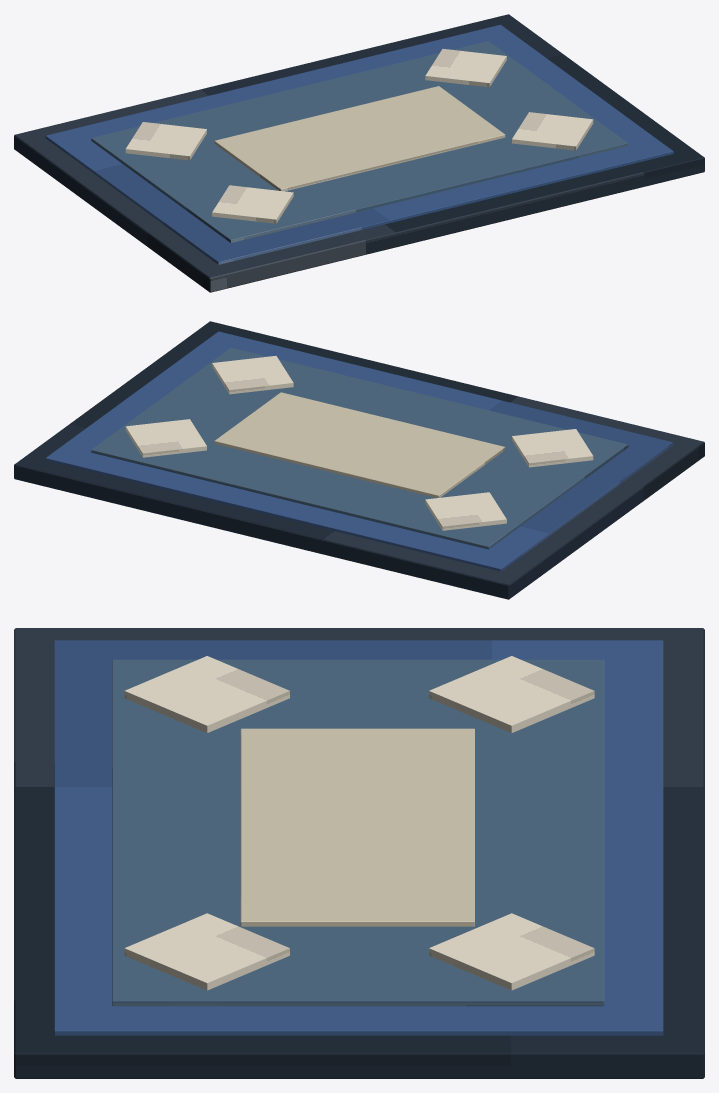
Rendered from bedroom_rug_navy.glb.
3 views of the same model, one above another, from view 1: azimuth 30°, elevation 25°; view 2: azimuth 150°, elevation 25°; view 3: azimuth 270°, elevation 25° (orthographic). The views are drawn at different scales.
Parts seen in each view (by area): view 1: RugField, RugBase, RugBorderOuter, RugCenter, RugDiamond_0.52_-0.26, RugDiamond_-0.52_-0.26, RugDiamond_0.52_0.26, RugDiamond_-0.52_0.26; view 2: RugField, RugBase, RugBorderOuter, RugCenter, RugDiamond_0.52_0.26, RugDiamond_-0.52_0.26, RugDiamond_0.52_-0.26, RugDiamond_-0.52_-0.26; view 3: RugField, RugBase, RugBorderOuter, RugCenter, RugDiamond_0.52_0.26, RugDiamond_0.52_-0.26, RugDiamond_-0.52_0.26, RugDiamond_-0.52_-0.26.
Boxes of the visible parts, x1=… form: RugField: x1=91, y1=41, x2=628, y2=242; RugBase: x1=14, y1=14, x2=704, y2=292; RugBorderOuter: x1=45, y1=24, x2=673, y2=264; RugCenter: x1=214, y1=86, x2=505, y2=191; RugDiamond_0.52_-0.26: x1=512, y1=112, x2=593, y2=150; RugDiamond_-0.52_-0.26: x1=212, y1=185, x2=293, y2=223; RugDiamond_0.52_0.26: x1=425, y1=49, x2=506, y2=87; RugDiamond_-0.52_0.26: x1=125, y1=122, x2=206, y2=160; RugField: x1=91, y1=347, x2=628, y2=549; RugBase: x1=14, y1=321, x2=704, y2=599; RugBorderOuter: x1=45, y1=331, x2=673, y2=571; RugCenter: x1=214, y1=392, x2=505, y2=497; RugDiamond_0.52_0.26: x1=125, y1=419, x2=206, y2=457; RugDiamond_-0.52_0.26: x1=425, y1=492, x2=506, y2=530; RugDiamond_0.52_-0.26: x1=212, y1=356, x2=293, y2=394; RugDiamond_-0.52_-0.26: x1=512, y1=429, x2=593, y2=467; RugField: x1=112, y1=659, x2=604, y2=1006; RugBase: x1=14, y1=628, x2=704, y2=1078; RugBorderOuter: x1=54, y1=640, x2=663, y2=1035; RugCenter: x1=240, y1=728, x2=474, y2=926; RugDiamond_0.52_0.26: x1=429, y1=913, x2=594, y2=990; RugDiamond_0.52_-0.26: x1=124, y1=913, x2=289, y2=990; RugDiamond_-0.52_0.26: x1=429, y1=656, x2=594, y2=732; RugDiamond_-0.52_-0.26: x1=124, y1=656, x2=289, y2=732.
Size of the model in its own units: 1.72 by 0.089 by 1.18.
Materials: 1 (1 with a texture image).
